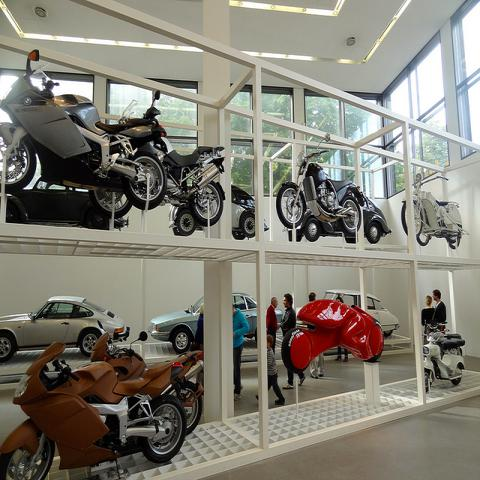car: (0, 298, 131, 359), (146, 292, 260, 354), (288, 196, 392, 244), (324, 290, 400, 335)
motorcycle: (0, 49, 168, 213), (1, 341, 189, 478), (91, 329, 204, 437), (148, 88, 226, 230), (281, 298, 385, 374), (276, 150, 366, 236), (168, 185, 269, 240), (400, 173, 468, 249), (421, 320, 467, 395)
